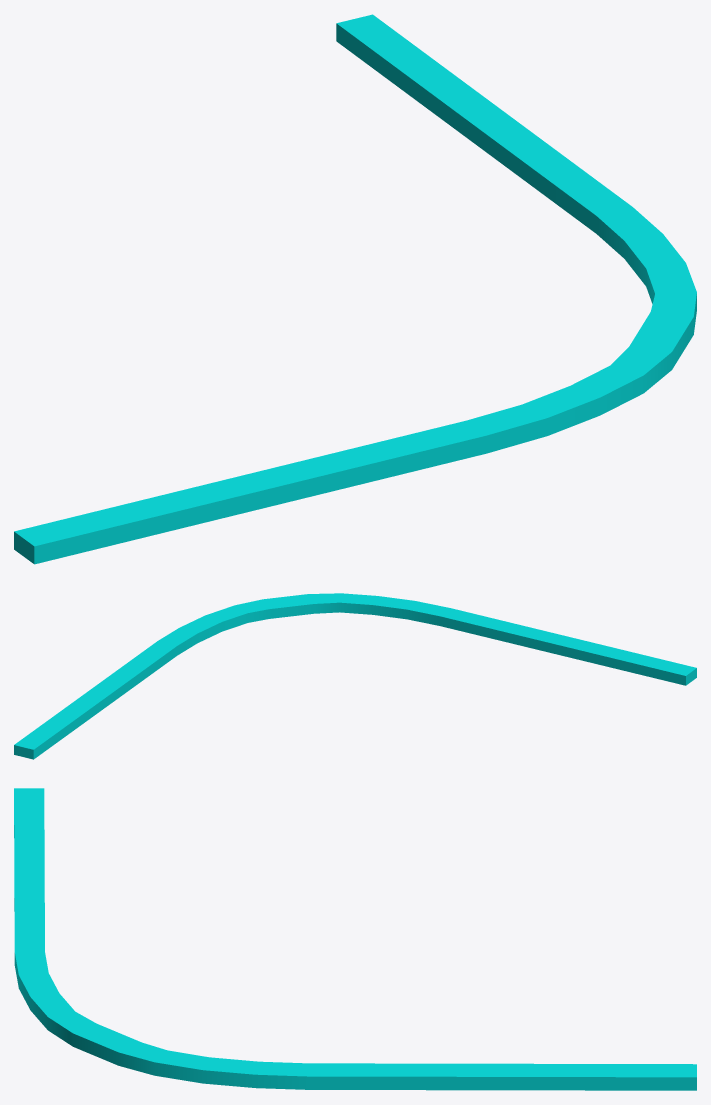
Rendered from SM_Bld_Train_Rail_Curve_Short_01_Collision.fbx.
3 views of the same model, one above another, from view 1: azimuth 30°, elevation 25°; view 2: azimuth 150°, elevation 25°; view 3: azimuth 270°, elevation 25° (orthographic). The views are drawn at different scales.
Visible parts, largest first — view 1: SM_Bld_Train_Rail_Curve_Short_01_Collision; view 2: SM_Bld_Train_Rail_Curve_Short_01_Collision; view 3: SM_Bld_Train_Rail_Curve_Short_01_Collision.
Part boxes in pixels (x1=…): SM_Bld_Train_Rail_Curve_Short_01_Collision: x1=14, y1=14, x2=696, y2=564; SM_Bld_Train_Rail_Curve_Short_01_Collision: x1=14, y1=593, x2=696, y2=759; SM_Bld_Train_Rail_Curve_Short_01_Collision: x1=14, y1=788, x2=696, y2=1090.
Size of the model in its own units: 2563 by 55.4 by 2560.
